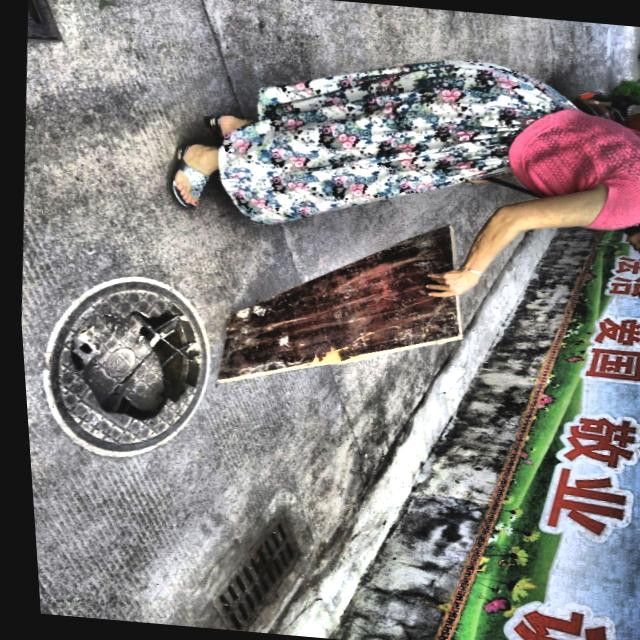open_manhole: (43, 276, 208, 456)
